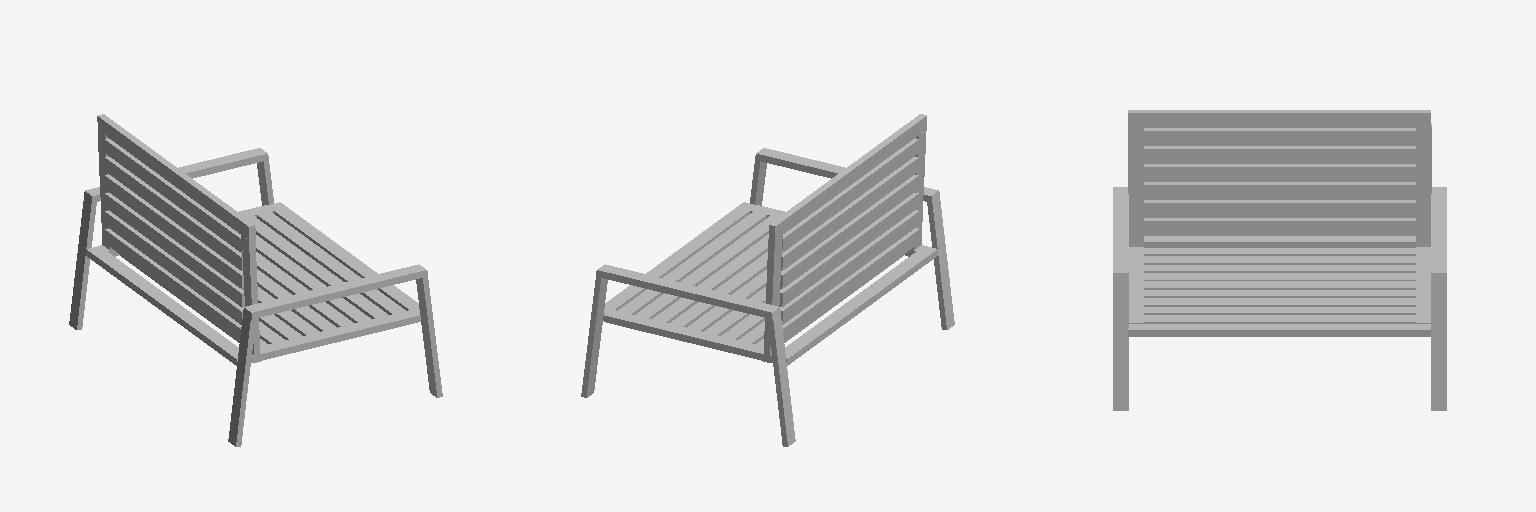
The model's file is bench.obj.
3 views of the same model, side by side, from view 1: azimuth 30°, elevation 25°; view 2: azimuth 150°, elevation 25°; view 3: azimuth 270°, elevation 25° (orthographic).
Visible parts, largest first — view 1: Cube.005_Cube.008; view 2: Cube.005_Cube.008; view 3: Cube.005_Cube.008.
Part boxes in pixels (bbox=[...]): Cube.005_Cube.008: bbox=[69, 114, 442, 446]; Cube.005_Cube.008: bbox=[581, 114, 954, 446]; Cube.005_Cube.008: bbox=[1113, 110, 1446, 410].
Size of the model in its own units: 6.01 by 5.85 by 8.4.